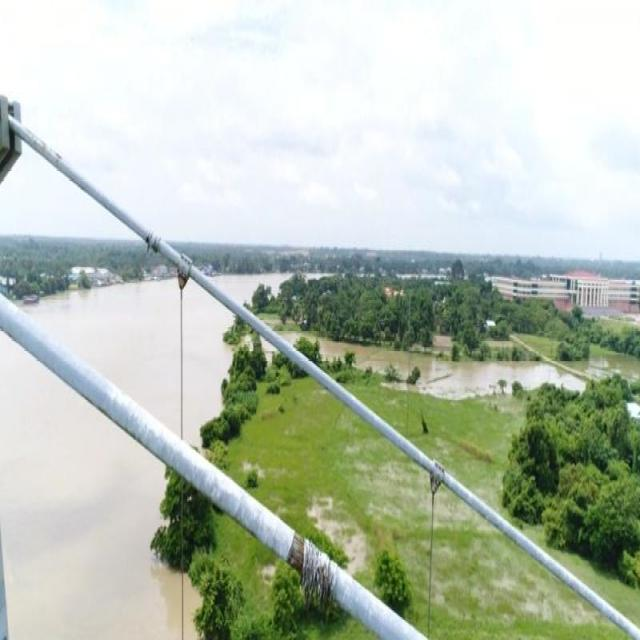corrosion: (286, 534, 337, 611), (145, 227, 160, 254), (429, 468, 440, 496), (178, 267, 186, 293)
